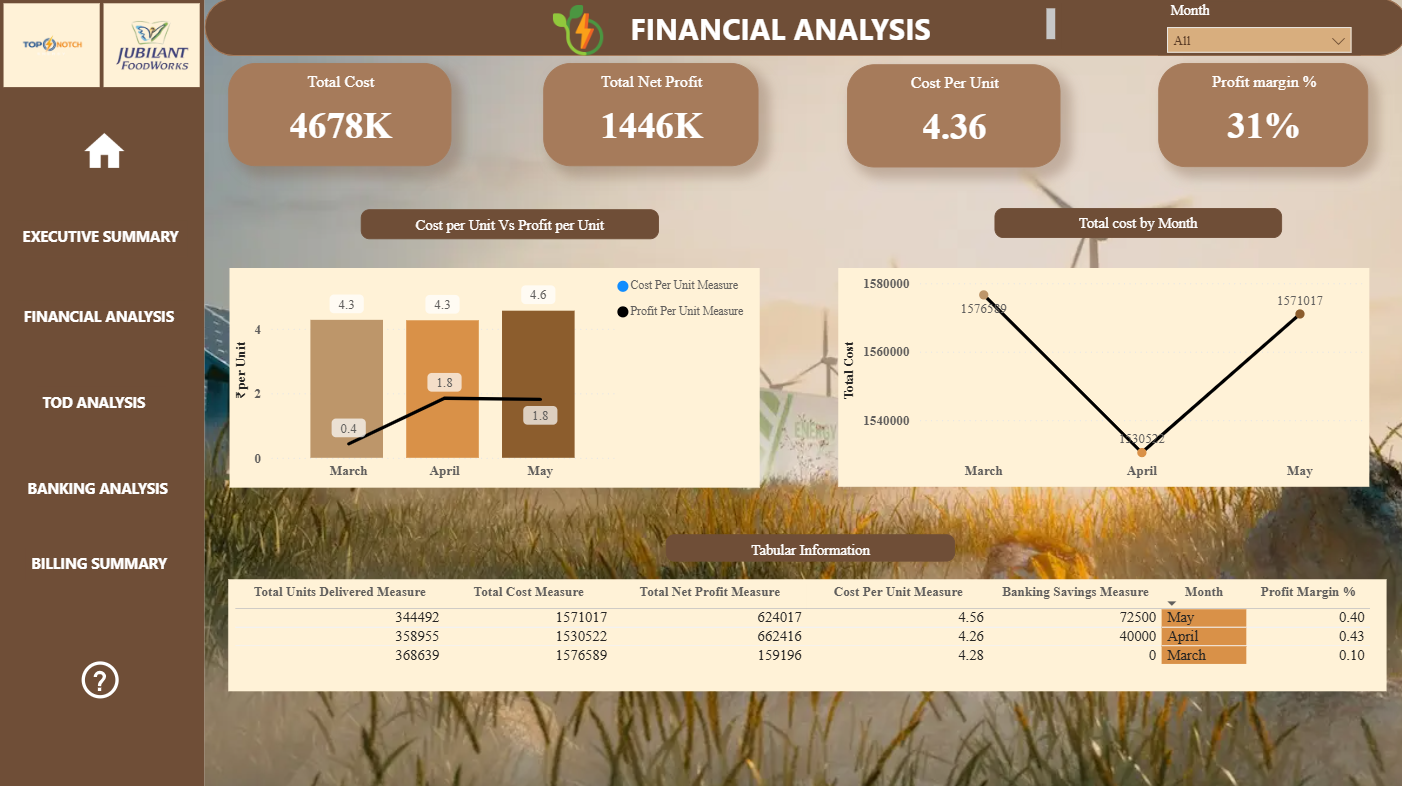

Layout of this report page (visuals, bound fields, positions):
{"tool":"powerbi","page":{"name":"financial analysis","canvas":[1280,720],"ordinal":1},"visuals":[{"type":"card","title":"Total Cost","fields":{"Values":["Energy Summary.Total Cost Measure"]},"box":[210,58.8,202.5,93.8],"z":0},{"type":"card","title":"Total Net Profit","fields":{"Values":["Energy Summary.Total Net Profit Measure"]},"box":[495,58.8,195,93.8],"z":1000},{"type":"card","title":"Cost Per Unit","fields":{"Values":["Energy Summary.Cost Per Unit Measure"]},"box":[771.2,60,193.8,93.8],"z":2000},{"type":"lineClusteredColumnComboChart","title":"Jobs Created with each funding source","fields":{"Y":["Energy Summary.Cost Per Unit Measure"],"Y2":["Energy Summary.Profit Per Unit Measure"],"Category":["Energy Summary.Month.Variation.Date Hierarchy.Month"]},"box":[210.3,244.6,480.6,199.3],"z":3000},{"type":"card","title":"Profit margin %","fields":{"Values":["Energy Summary.Profit Margin %"]},"box":[1052.9,58.7,190.8,94.2],"z":4000},{"type":"shape","box":[188,0,1092,52.6],"z":5000},{"type":"textbox","box":[904.9,190.8,260.5,26.9],"z":9000},{"type":"textbox","box":[330.2,192,270.2,26.9],"z":10000},{"type":"slicer","fields":{"Values":["Energy Summary.Month"]},"box":[1053.4,0,183.4,52.3],"z":11000},{"type":"textbox","box":[463.5,4.9,501.4,41.6],"z":12000},{"type":"image","box":[495.7,0,62.9,58.6],"z":13000},{"type":"textbox","box":[606.2,486.2,262.5,25],"z":15000},{"type":"tableEx","fields":{"Values":["Energy Summary.Total Units Delivered Measure","Energy Summary.Total Cost Measure","Energy Summary.Total Net Profit Measure","Energy Summary.Cost Per Unit Measure","Energy Summary.Banking Savings Measure","Energy Summary.Month.Variation.Date Hierarchy.Month","Energy Summary.Profit Margin %"]},"box":[210,527.5,1050,101.2],"z":16000},{"type":"lineChart","title":"Jobs Created with each funding source","fields":{"Y":["Energy Summary.Total Cost Measure"],"Category":["Energy Summary.Month.Variation.Date Hierarchy.Month"]},"box":[762.5,245,481.2,198.8],"z":17000},{"type":"shape","box":[0,0,188.3,720.2],"z":22000},{"type":"image","box":[72.5,113.3,50,51.4],"z":23000},{"type":"actionButton","box":[47.7,102.7,100.3,77],"z":24000},{"type":"actionButton","box":[12.5,190.5,164.3,54.3],"z":25000},{"type":"actionButton","box":[13.9,339.1,164.3,54.3],"z":26000},{"type":"actionButton","box":[12.5,486.2,164.3,52.9],"z":27000},{"type":"textbox","box":[17.9,201.9,154.3,32.9],"z":28000},{"type":"textbox","box":[36.5,352.6,117.1,38.6],"z":29000},{"type":"textbox","box":[26.5,499.1,137.1,28.6],"z":30000},{"type":"actionButton","box":[71.1,596.2,50,44.3],"z":31000},{"type":"actionButton","box":[11.1,417.6,164.3,52.9],"z":32000},{"type":"textbox","box":[22.2,430.8,145.7,28.6],"z":33000},{"type":"actionButton","box":[8.1,262.3,165.3,54.3],"z":34000},{"type":"textbox","box":[19.3,274.4,151.4,38.6],"z":35000},{"type":"image","box":[1.2,0,96.6,85.6],"z":36000},{"type":"image","box":[91.4,0,97.1,85.7],"z":37000}]}

Visuals, with their boxes on the page's 1280x720 design canvas (x1, y1, x2, y2). These are canvas units, not pixel positions in the 1402x786 screenshot, which may show the page scaled, cropped or inside an application window:
"Total Cost" card: detection(210, 59, 412, 153)
"Total Net Profit" card: detection(495, 59, 690, 153)
"Cost Per Unit" card: detection(771, 60, 965, 154)
"Jobs Created with each funding source" lineClusteredColumnComboChart: detection(210, 245, 691, 444)
"Profit margin %" card: detection(1053, 59, 1244, 153)
shape: detection(188, 0, 1280, 53)
textbox: detection(905, 191, 1165, 218)
textbox: detection(330, 192, 600, 219)
slicer - Energy Summary.Month: detection(1053, 0, 1237, 52)
textbox: detection(464, 5, 965, 46)
image: detection(496, 0, 559, 59)
textbox: detection(606, 486, 869, 511)
tableEx - Energy Summary.Total Units Delivered Measure x Energy Summary.Total Cost Measure: detection(210, 528, 1260, 629)
"Jobs Created with each funding source" lineChart: detection(762, 245, 1244, 444)
shape: detection(0, 0, 188, 720)
image: detection(72, 113, 122, 165)
actionButton: detection(48, 103, 148, 180)
actionButton: detection(12, 190, 177, 245)
actionButton: detection(14, 339, 178, 393)
actionButton: detection(12, 486, 177, 539)
textbox: detection(18, 202, 172, 235)
textbox: detection(36, 353, 154, 391)
textbox: detection(26, 499, 164, 528)
actionButton: detection(71, 596, 121, 640)
actionButton: detection(11, 418, 175, 470)
textbox: detection(22, 431, 168, 459)
actionButton: detection(8, 262, 173, 317)
textbox: detection(19, 274, 171, 313)
image: detection(1, 0, 98, 86)
image: detection(91, 0, 188, 86)
